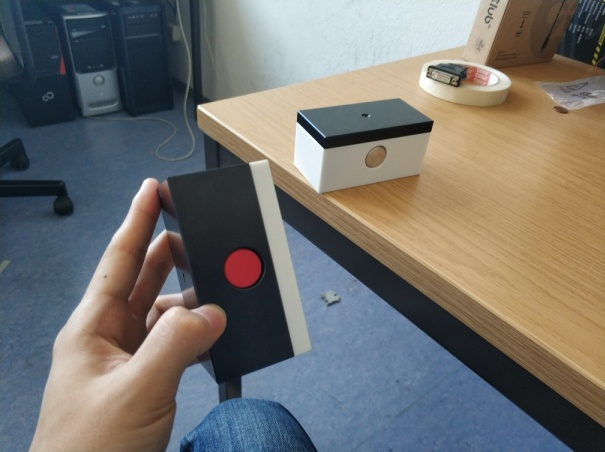black+white+silver: (291, 95, 435, 196)
white+black+red: (156, 158, 315, 385)
